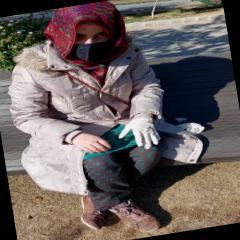gloved: (119, 114, 164, 152)
not-gloved: (70, 128, 114, 156)
